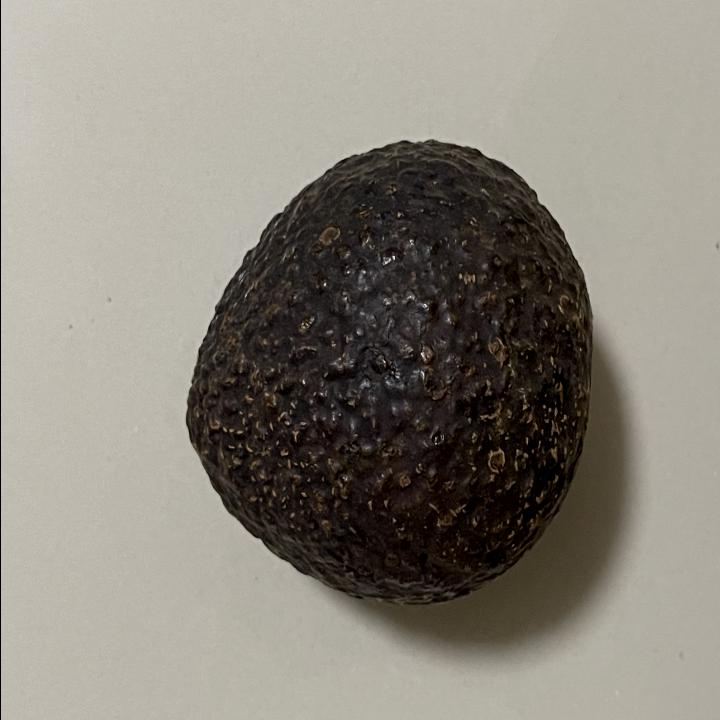Level2: (177, 131, 599, 615)
